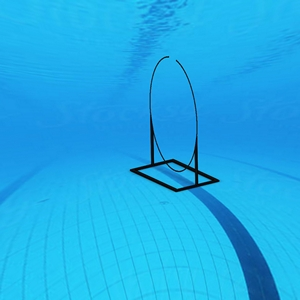circle: (128, 53, 227, 196)
